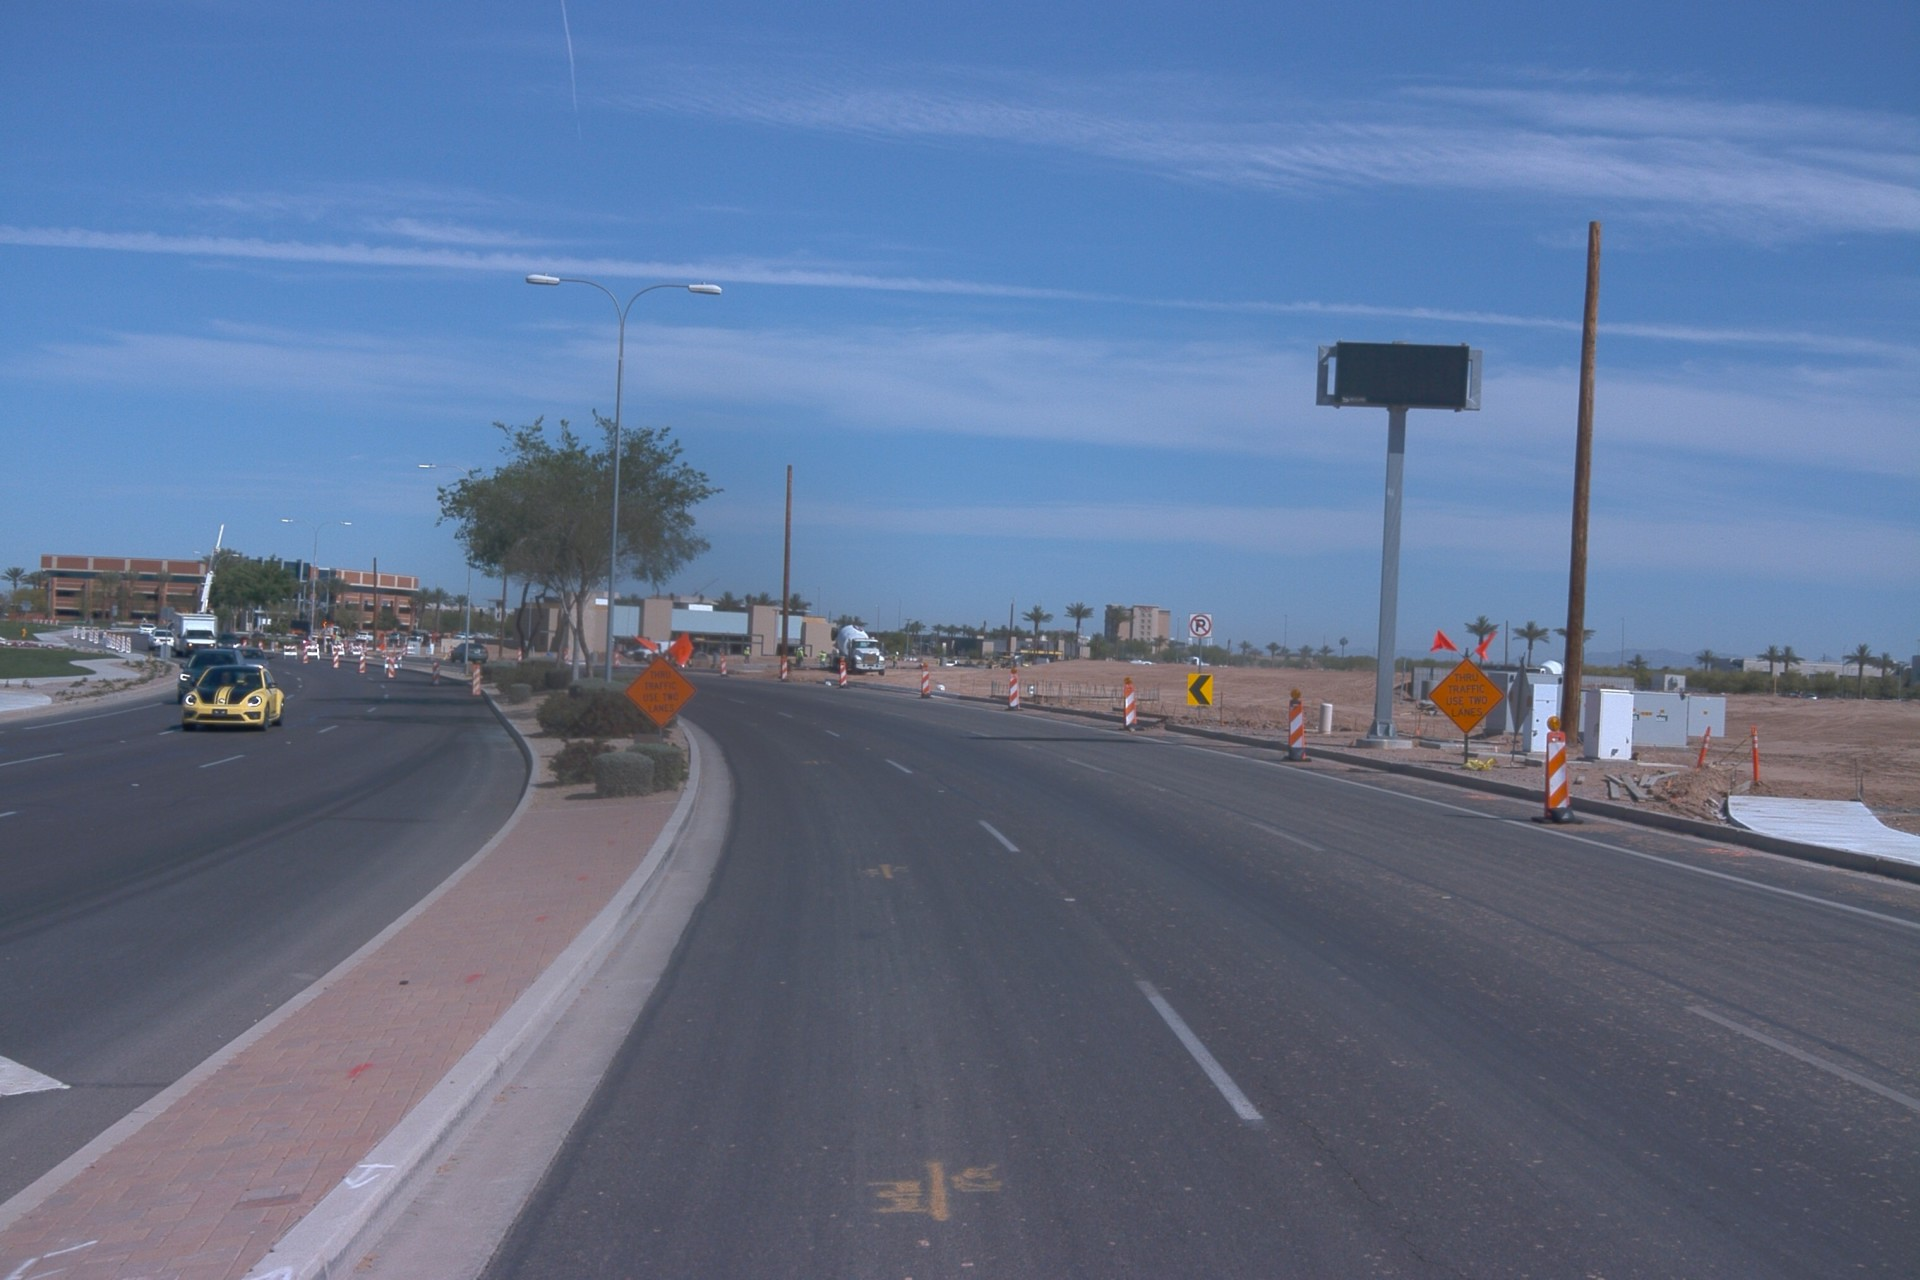TYPE_PEDESTRIAN: (815, 650, 827, 672), (798, 647, 807, 668), (742, 645, 751, 666), (795, 647, 801, 668), (891, 654, 898, 670)
TYPE_VEHICLE: (164, 521, 230, 666), (176, 664, 285, 729), (177, 648, 243, 702), (170, 614, 219, 659), (235, 644, 276, 675), (631, 641, 677, 660), (1526, 656, 1564, 679), (448, 644, 490, 663), (146, 628, 177, 653), (985, 652, 1026, 670), (288, 633, 317, 651), (215, 634, 241, 650), (140, 623, 159, 637), (625, 644, 644, 657), (1130, 657, 1155, 666), (454, 632, 473, 641), (828, 648, 842, 660), (788, 651, 809, 659), (946, 660, 962, 669), (761, 654, 773, 658)
